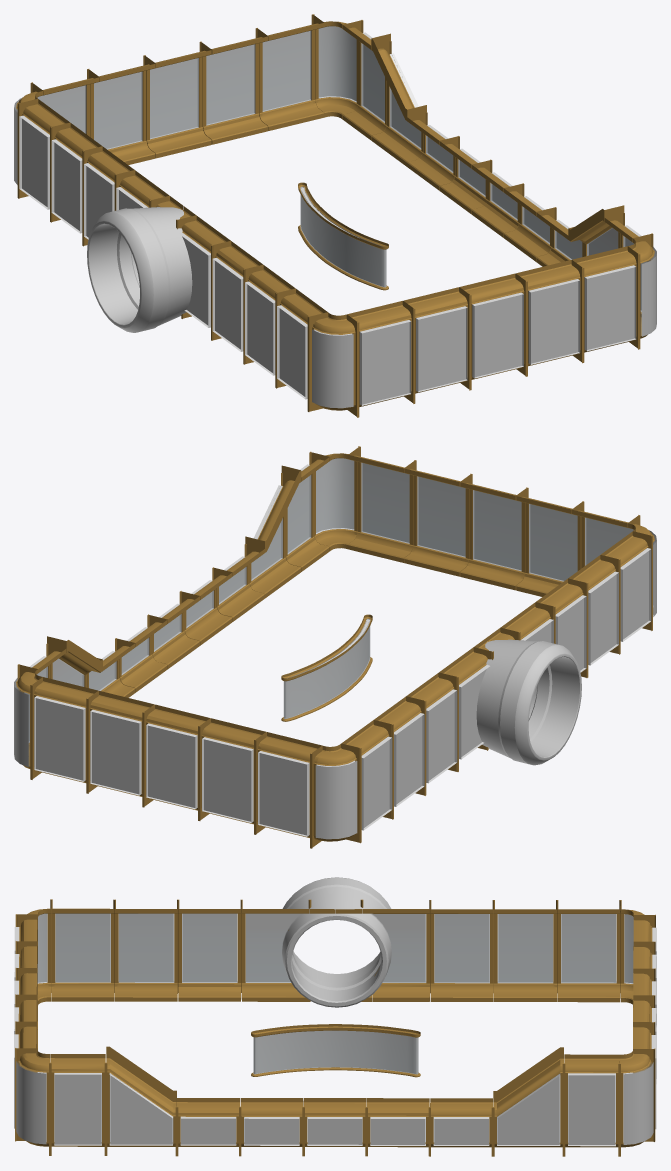
The model's file is SmallBuildingInterior.fbx.
The picture shows the model from 3 angles, top to bottom: view 1: azimuth 30°, elevation 25°; view 2: azimuth 150°, elevation 25°; view 3: azimuth 270°, elevation 25°; orthographic projection. The views are drawn at different scales.
Visible parts, largest first — view 1: Cube.008; view 2: Cube.008; view 3: Cube.008.
Part boxes in pixels (x1,y1,x2,y2): Cube.008: (14,14,656,417); Cube.008: (14,446,656,848); Cube.008: (14,877,656,1156).
Bounding box in the file's own units: 8143 × 2299 × 11777.
